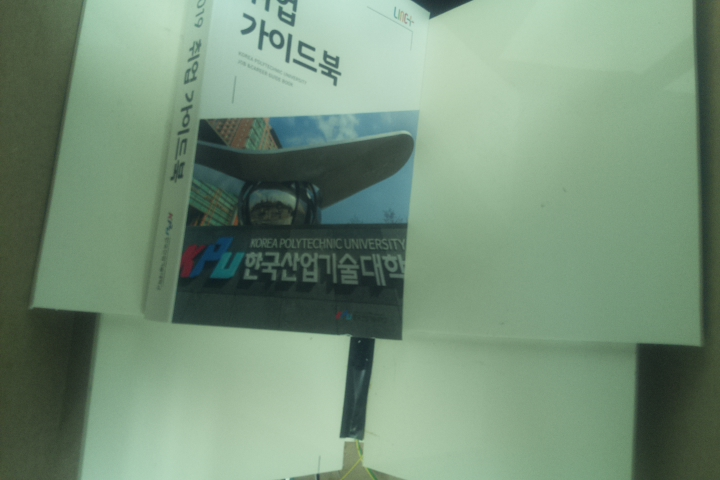book: (140, 1, 433, 342)
